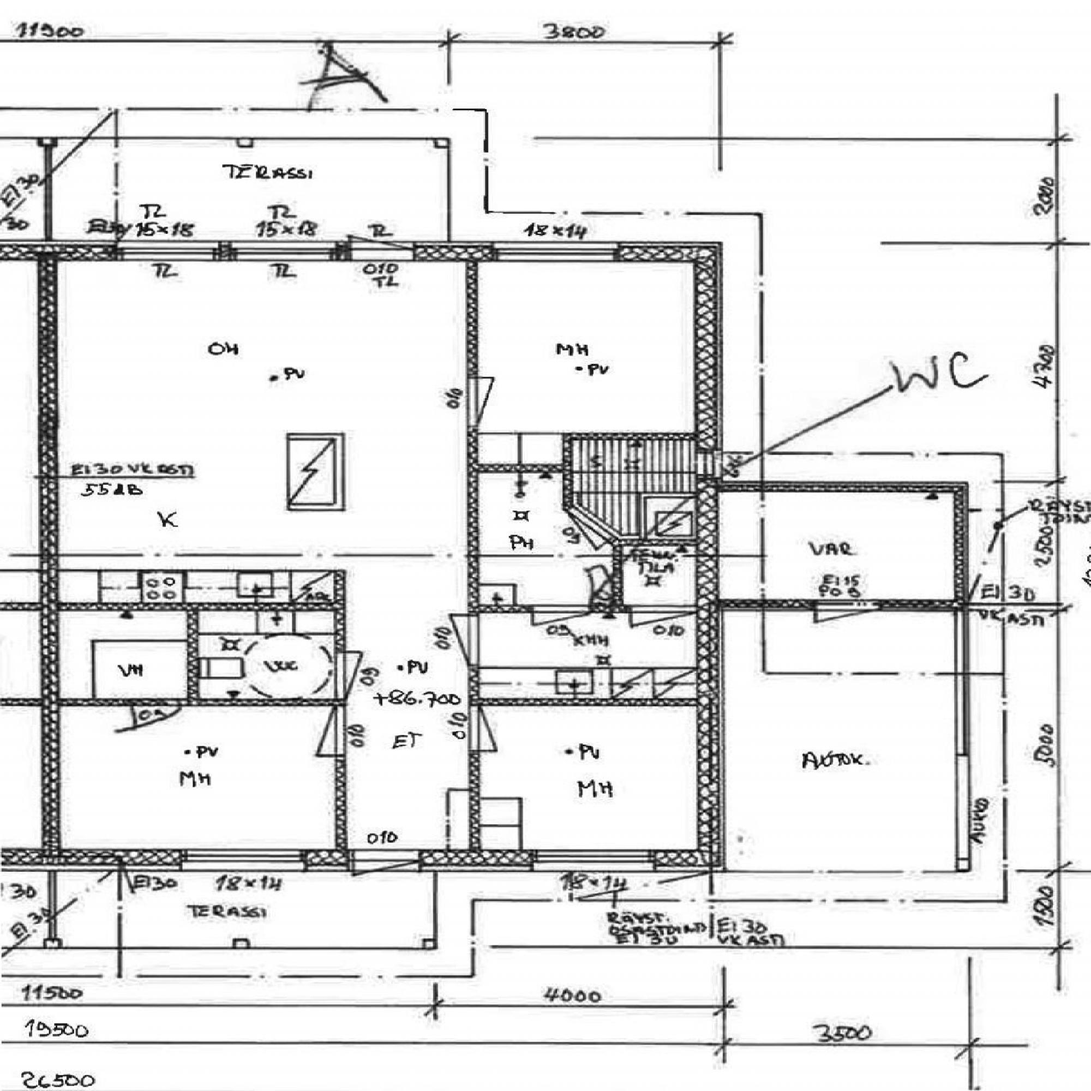wall: (695, 241, 722, 872), (36, 850, 722, 873), (36, 241, 58, 872), (37, 241, 722, 261), (469, 241, 480, 872), (336, 570, 346, 872), (695, 600, 968, 611), (695, 481, 968, 491), (562, 505, 619, 547), (36, 603, 346, 610), (36, 699, 346, 706), (954, 481, 968, 611), (468, 699, 722, 706), (188, 603, 199, 706), (562, 433, 722, 440), (468, 606, 623, 613), (468, 464, 572, 473), (614, 539, 722, 547), (613, 606, 722, 613), (613, 539, 623, 613), (336, 434, 343, 510), (562, 464, 572, 508), (562, 433, 572, 473), (288, 504, 343, 510), (288, 434, 343, 440)
